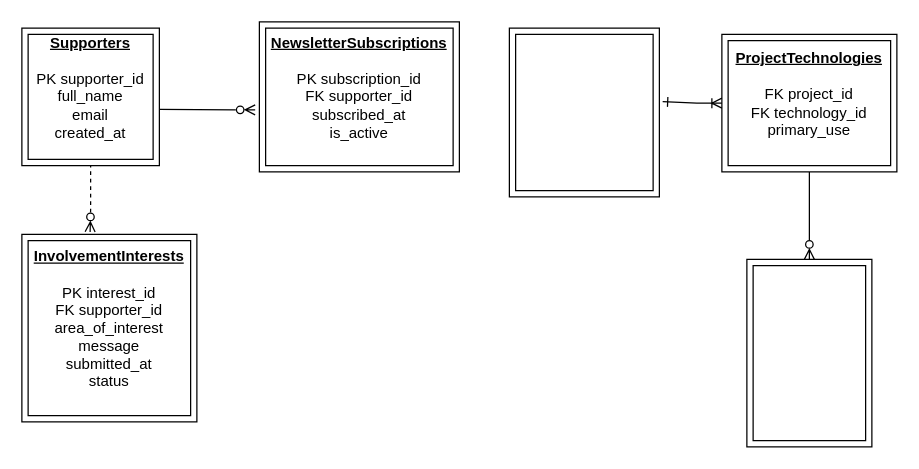
The diagram is 919 pixels wide and 469 high, and some of its shapes have lost their labels. Here are the shapes that lost their labels. From the top down, the centre of each, then its label:
At [583,112]: "Projects PK project_id project_name location description start_date status".
At [809,352]: "Technologies PK technology_id name category description".
